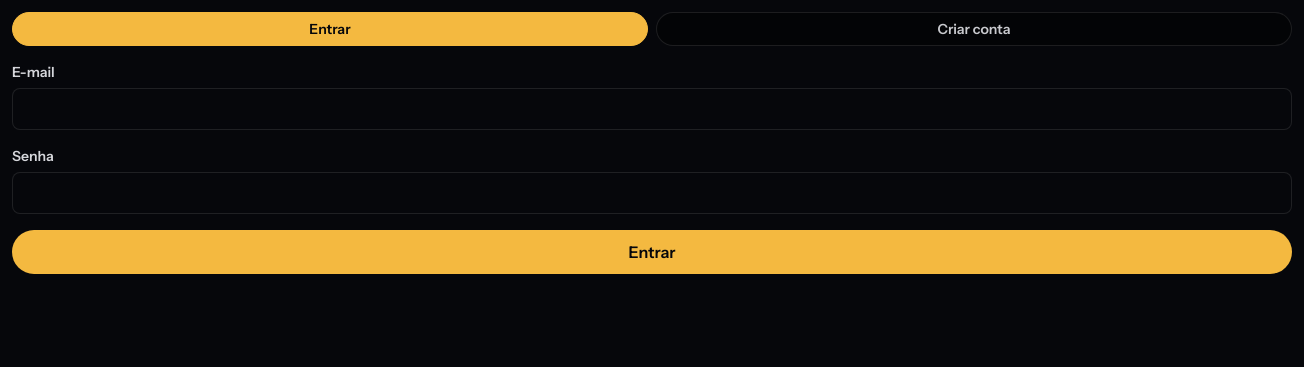
Test case: AuthForm › mostra a regra da senha e o erro devolvido
Expected: the text "Mínimo de 6 caracteres" is not shown
Click the button "Criar conta": (974, 29) x1=656 y1=12 x2=1292 y2=46
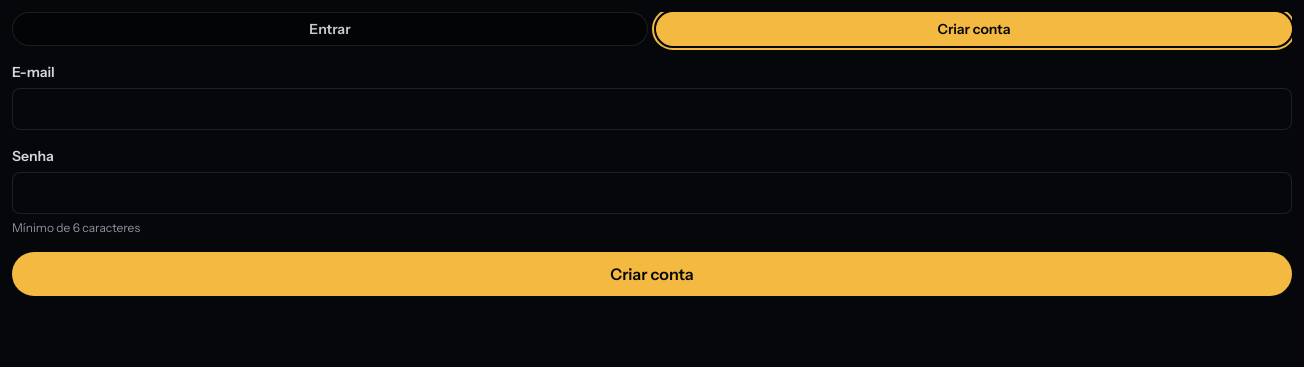
Result: the text "Mínimo de 6 caracteres" is shown at x1=12 y1=220 x2=140 y2=235
In the field labelled "E-mail": (652, 109) x1=12 y1=88 x2=1292 y2=130, type "a@b.com"
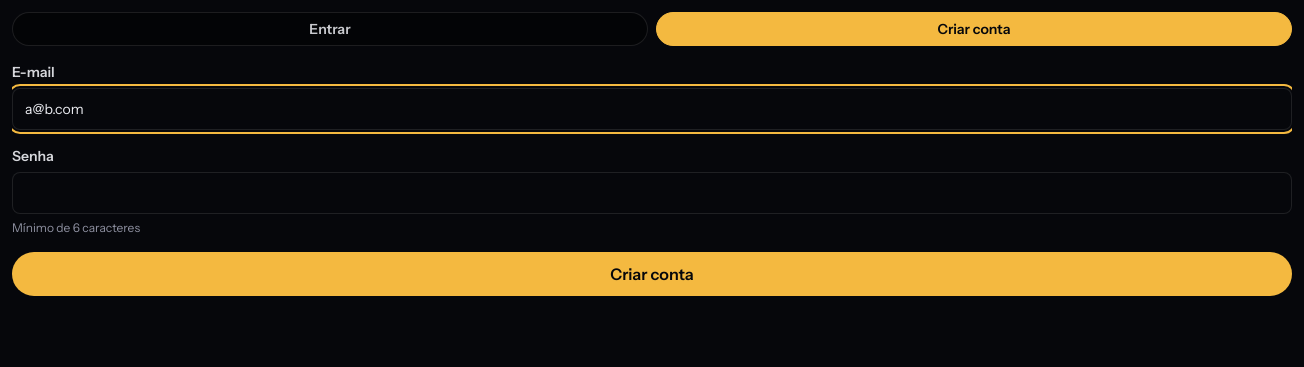
In the password field labelled "Senha": (652, 193) x1=12 y1=172 x2=1292 y2=214, type "123456"
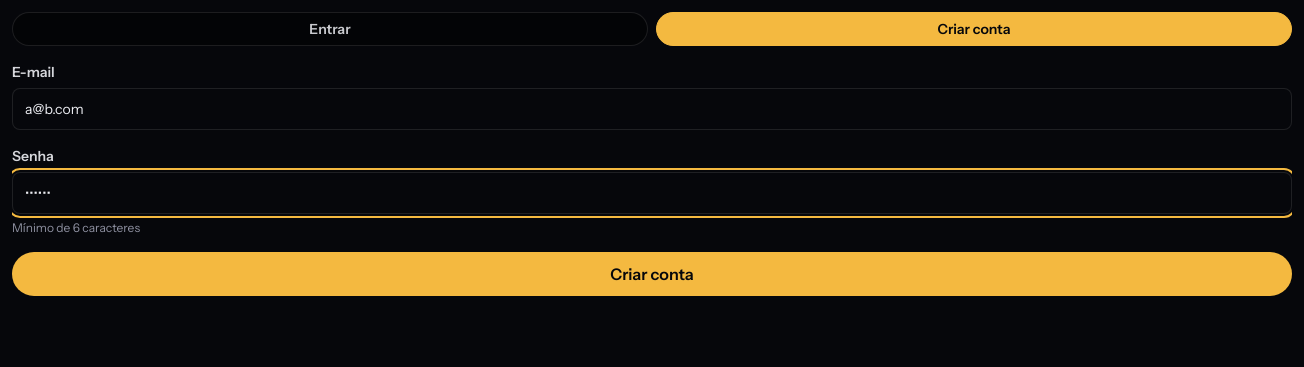
Click the button "Criar conta" below "Mínimo de 6 caracteres": (652, 274) x1=12 y1=252 x2=1292 y2=296
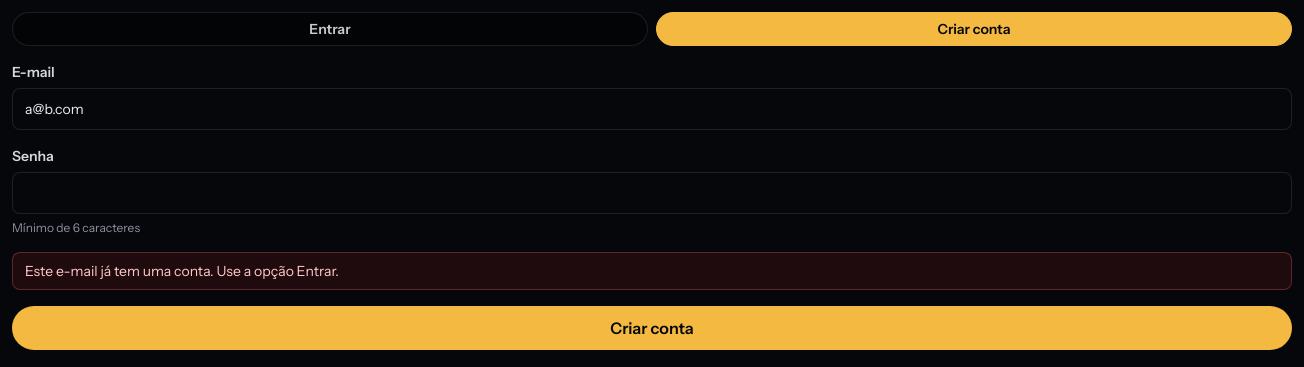
Result: the message reads "Este e-mail já tem uma conta. Use a opção Entrar." at x1=25 y1=262 x2=339 y2=280
